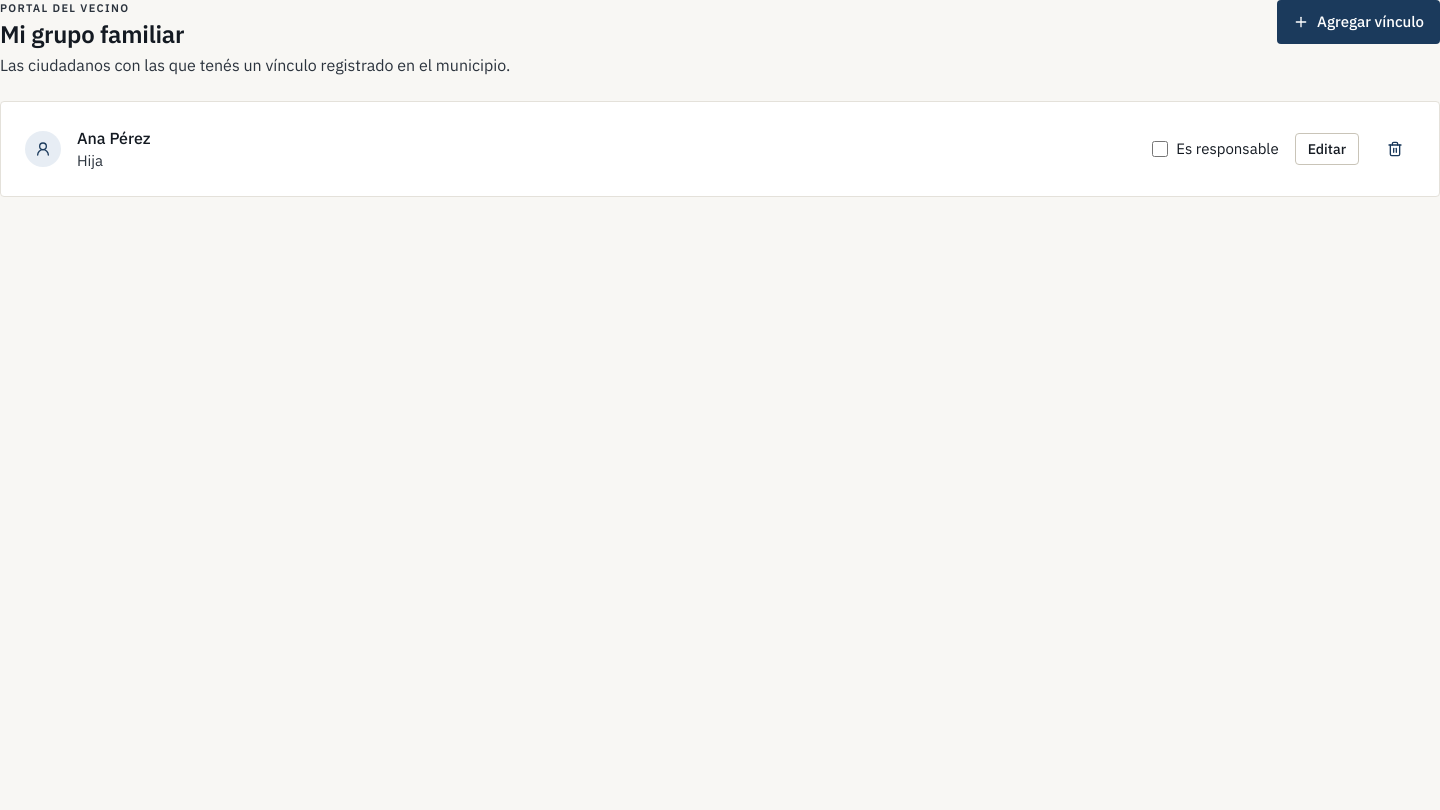
Test: alta: buscar a la otra ciudadano › avisa si la ciudadano no está registrada
Click the button "Agregar vínculo" at (1359, 22), box [1277,0,1439,44]
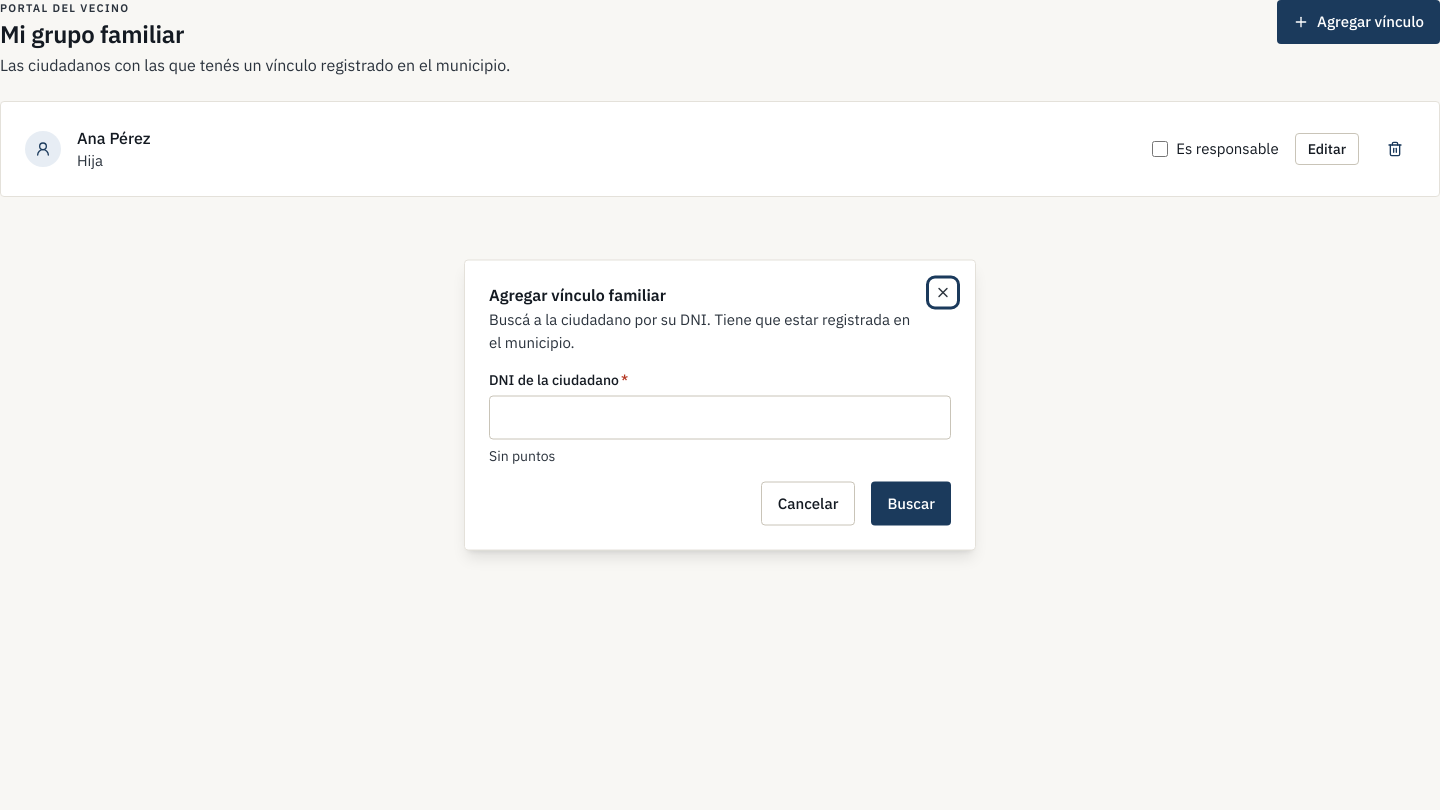
Type "99999999" into the field labelled "DNI de la ciudadano" at (720, 418), box [489,396,951,440]
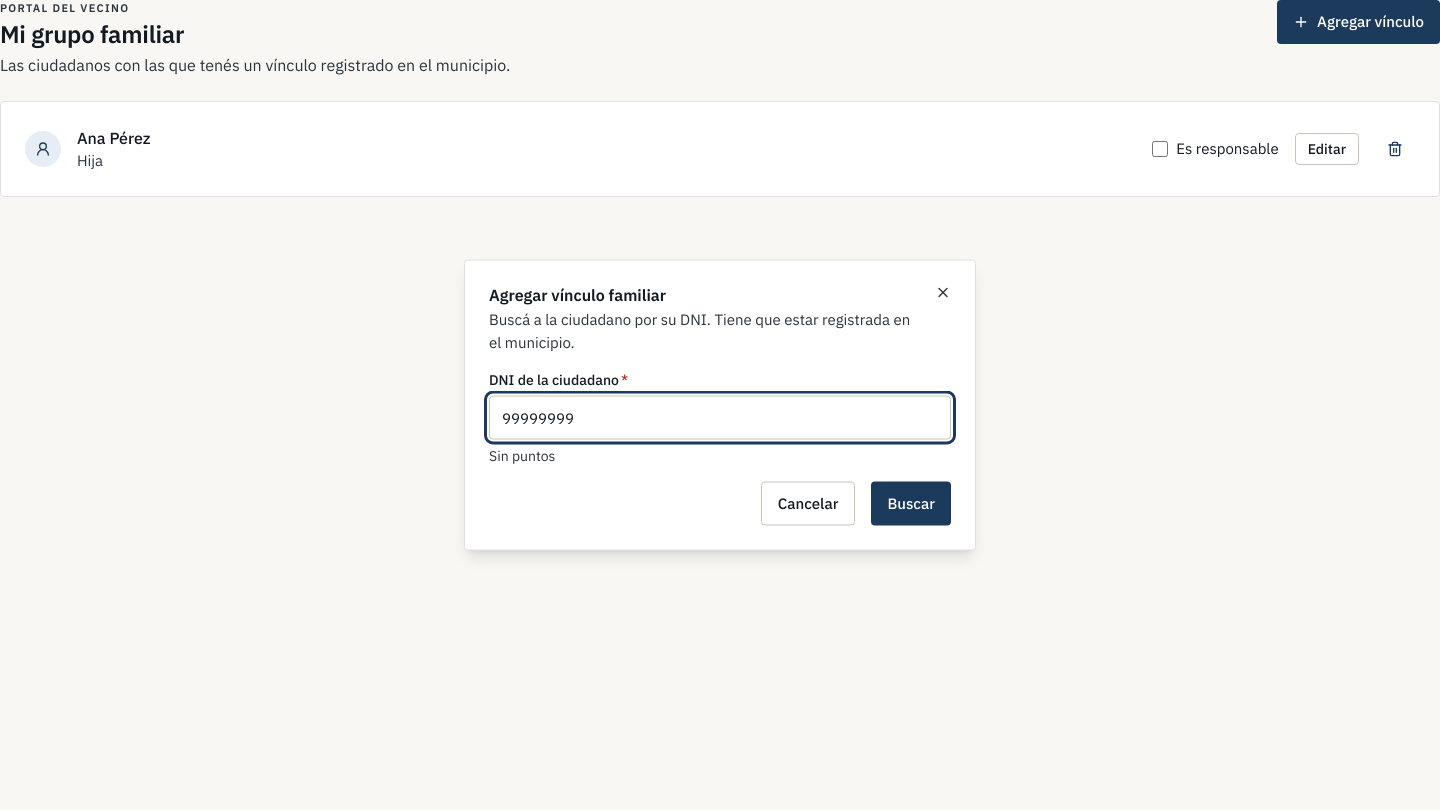
Click the button "Buscar" at (911, 504), box [871,482,951,526]
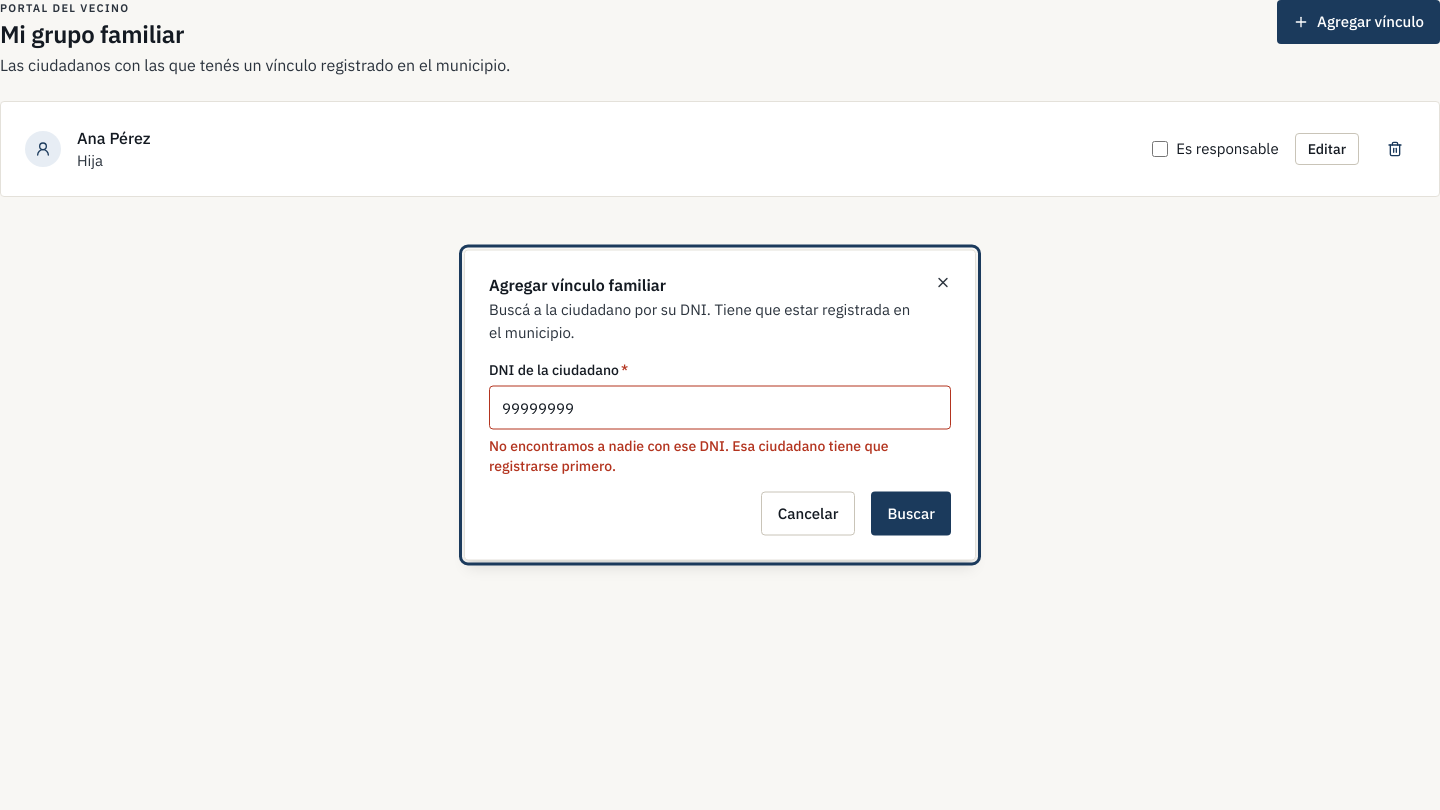
expect the text "tiene que registrarse primero" is shown: met, box [489,436,889,474]
